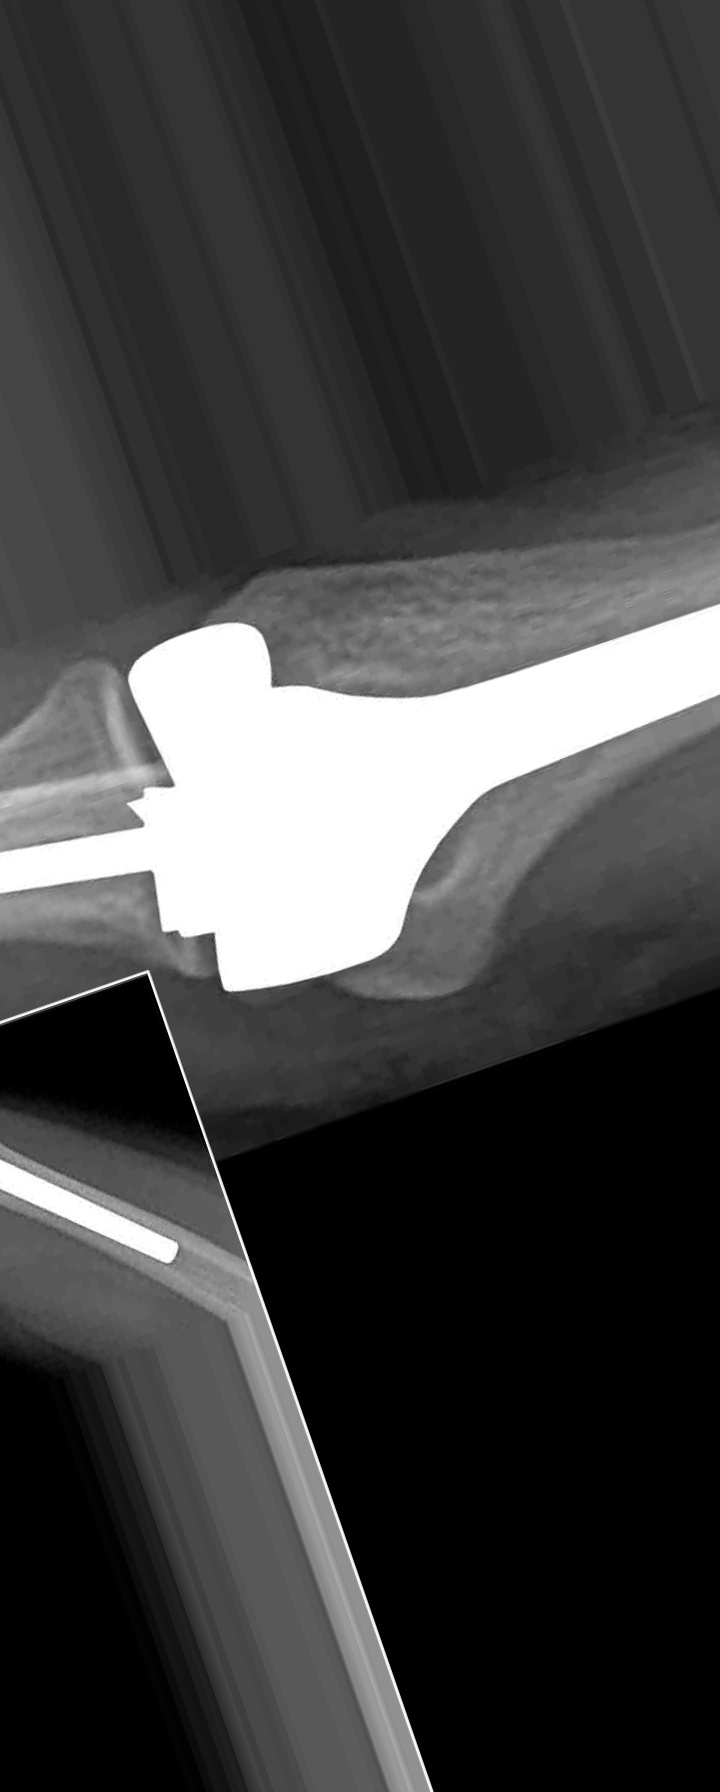Elbow - IBP - Biomet: (2, 525, 720, 1011)
